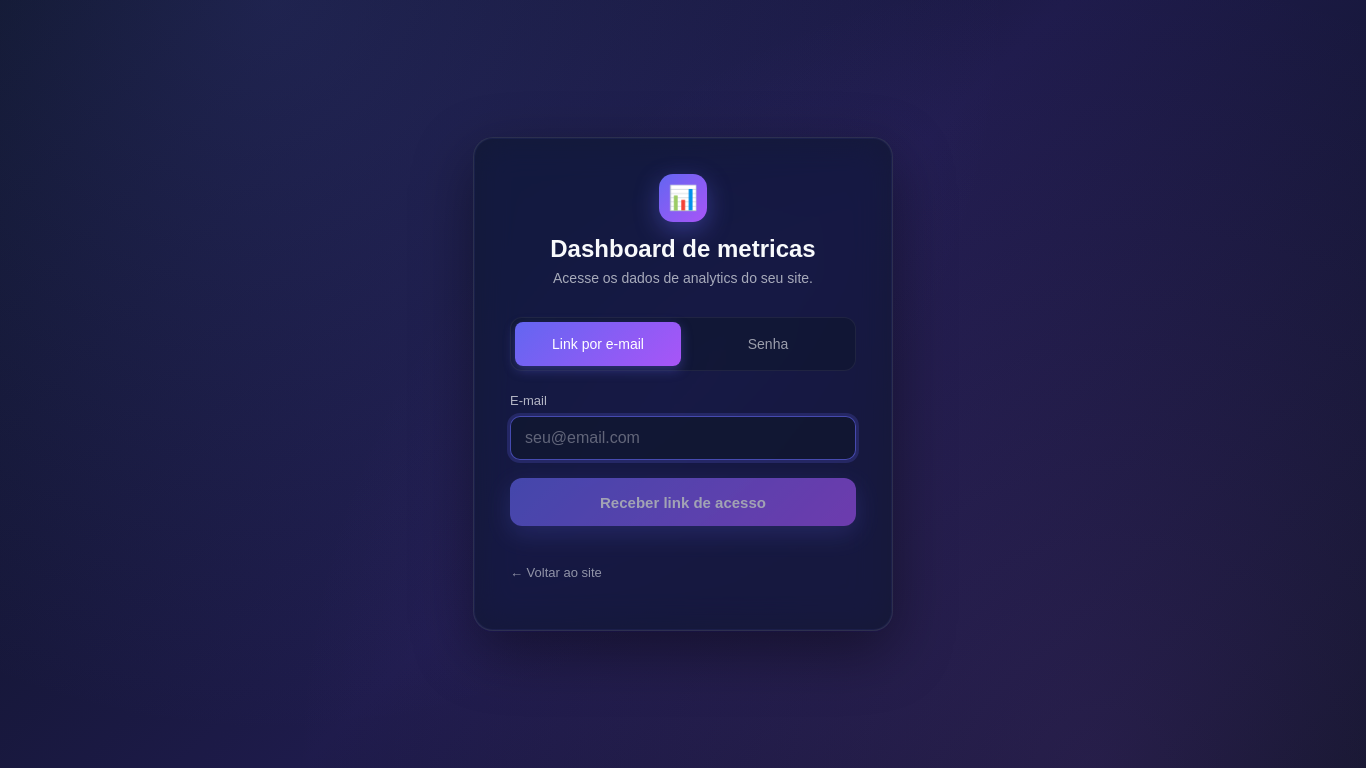
Scenario: ClienteLogin › mostra mensagem de sucesso ao enviar magic-link
Type "dan@acme.test" into the field labelled "E-mail".
click(683, 438); type("dan@acme.test")  # box [510,416,856,460]
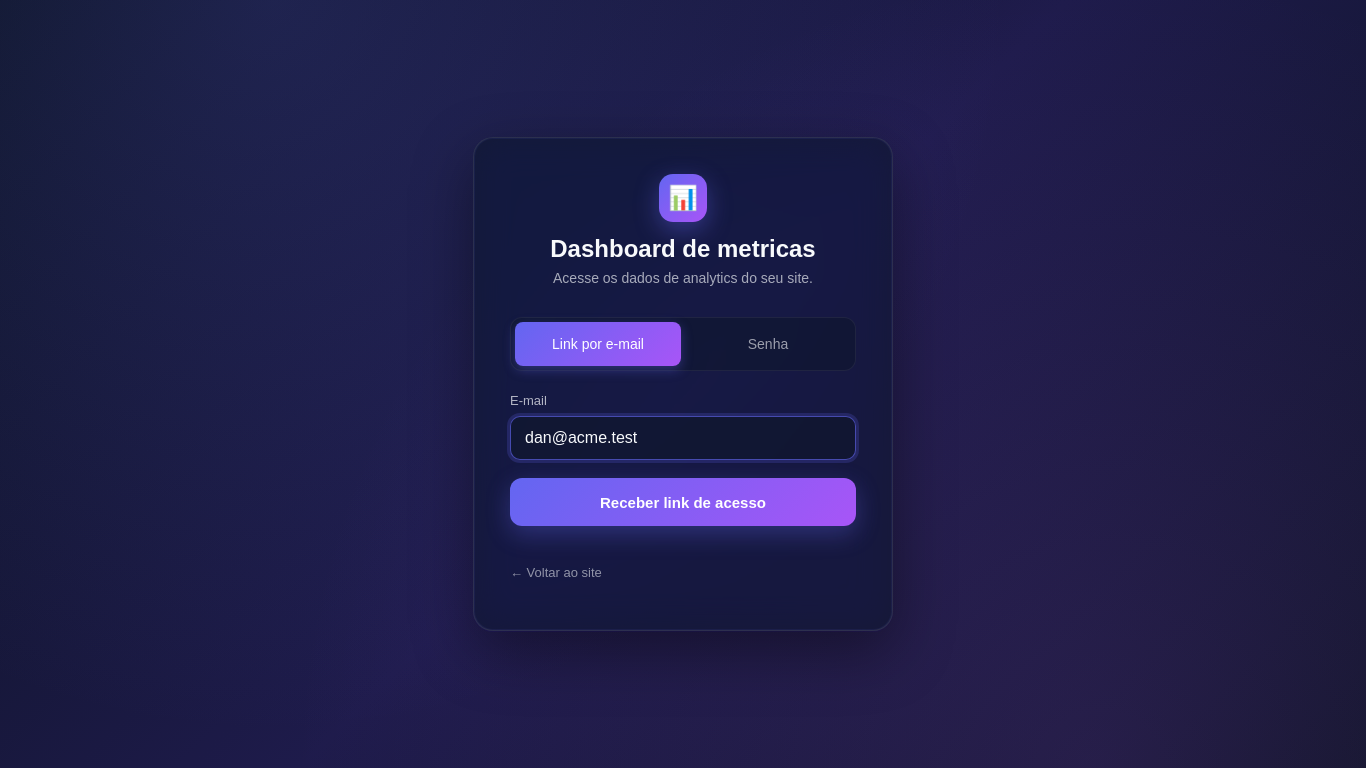
Click the button "Receber link de acesso".
click(683, 502)  # box [510,478,856,526]
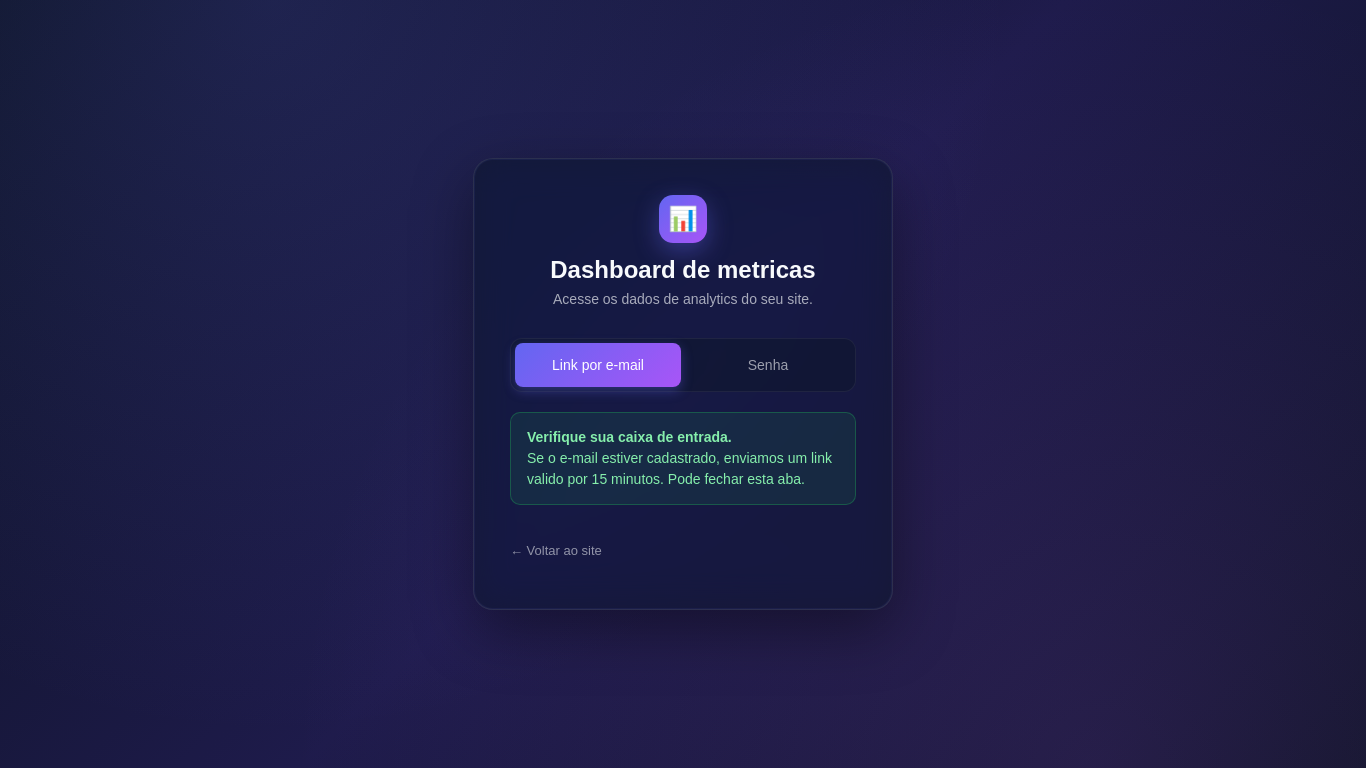
Result: the message shows "Verifique sua caixa" at [527,429,732,445]
